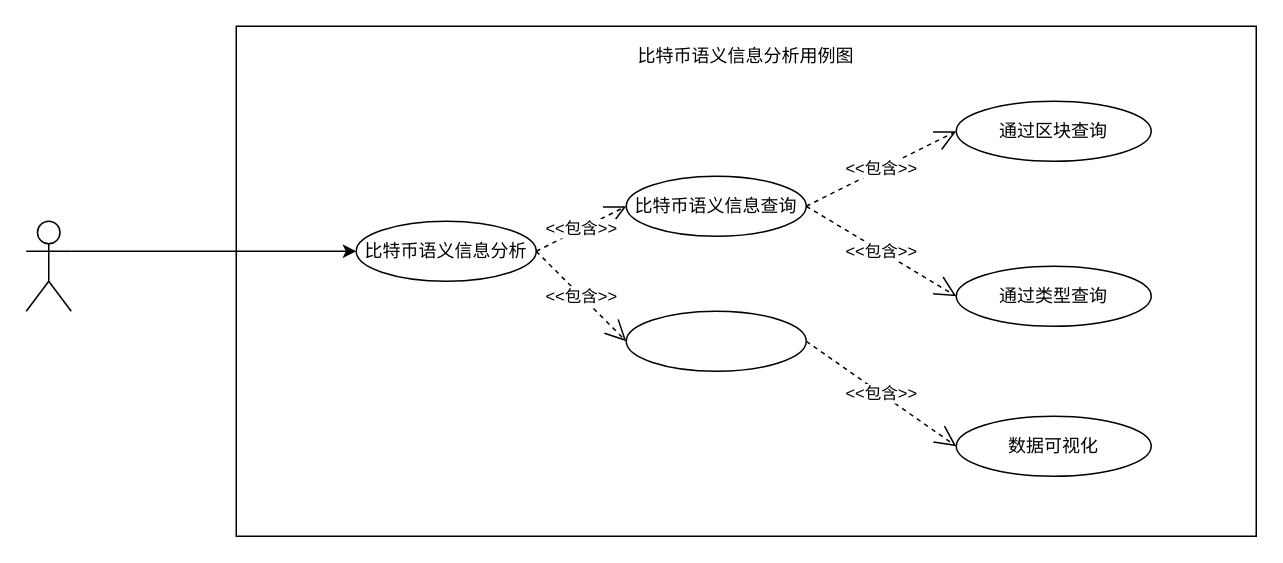
Some shapes in this 1283 by 563 pixel diagram are drawn without their labels. Here are the shapes that lost their labels. From the top down, the box of each, then its label:
(25, 220, 71, 311): 用户
(625, 310, 806, 371): 比特币语义信息统计
